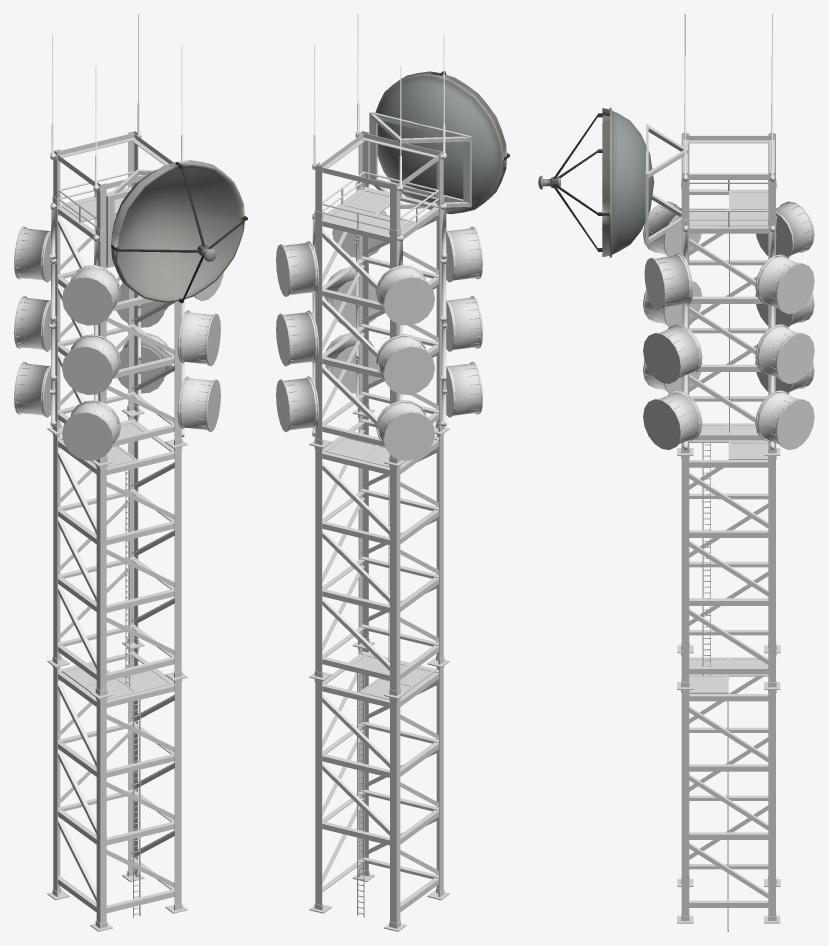
Rendered from RadioTower.fbx.
3 renders of one model, left to right at view 1: azimuth 30°, elevation 25°; view 2: azimuth 150°, elevation 25°; view 3: azimuth 270°, elevation 25°, orthographic.
Parts seen in each view (by area): view 1: Cylinder.054, Cube.250, Cube.249, Sphere.002, Cube.251, Cube.248, Cube.253, Cylinder.057, Cube.252, Cylinder.056, Cube.247; view 2: Cylinder.054, Cube.250, Cube.249, Cube.251, Sphere.002, Cube.248, Cube.253, Cylinder.057, Cube.252, Cylinder.056, Cube.247; view 3: Cylinder.054, Cube.249, Cube.250, Cube.251, Sphere.002, Cube.253, Cube.248, Cube.252, Cylinder.057, Cylinder.056, Cube.247.
Boxes of the visible parts, x1,y1,x2,y2 form: Cylinder.054: (14,226,223,460); Cube.250: (47,415,187,699); Cube.249: (47,647,187,931); Sphere.002: (111,160,247,303); Cube.251: (47,181,187,466); Cube.248: (53,131,173,266); Cube.253: (62,197,172,699); Cylinder.057: (50,203,184,437); Cube.252: (94,219,140,917); Cylinder.056: (50,14,183,191); Cube.247: (58,171,138,227); Cylinder.054: (276,210,482,460); Cube.250: (309,415,449,699); Cube.249: (309,647,449,931); Cube.251: (309,178,449,466); Sphere.002: (375,71,509,214); Cube.248: (315,111,471,230); Cube.253: (324,189,434,699); Cylinder.057: (312,182,446,437); Cube.252: (357,475,389,917); Cylinder.056: (312,14,446,191); Cube.247: (322,171,438,229); Cylinder.054: (643,201,814,449); Cube.249: (677,653,780,923); Cube.250: (677,423,780,689); Cube.251: (677,179,780,455); Sphere.002: (538,107,654,257); Cube.253: (689,191,768,693); Cube.248: (645,124,775,244); Cube.252: (702,233,729,931); Cylinder.057: (682,225,775,449); Cylinder.056: (681,14,775,181); Cube.247: (689,173,768,227).
Size of the model in its own units: 490 by 2590 by 733.
